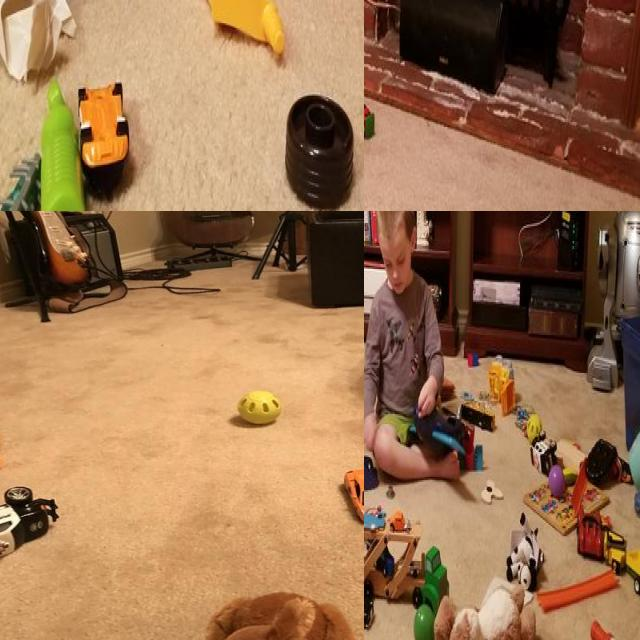toy: (158, 584, 353, 640), (364, 499, 447, 608), (281, 92, 357, 211), (37, 78, 87, 211), (0, 485, 71, 575), (436, 586, 543, 640), (78, 75, 130, 179), (196, 0, 287, 59), (594, 523, 640, 607), (409, 395, 464, 463), (541, 570, 621, 608), (504, 517, 547, 583), (0, 144, 42, 211), (573, 501, 611, 555), (233, 388, 284, 425), (487, 357, 520, 414), (465, 388, 497, 437), (339, 466, 364, 525), (522, 432, 554, 470), (589, 614, 627, 640), (364, 575, 376, 633), (364, 454, 382, 492), (548, 460, 566, 494), (524, 409, 544, 439), (461, 347, 481, 372), (383, 480, 398, 500)
